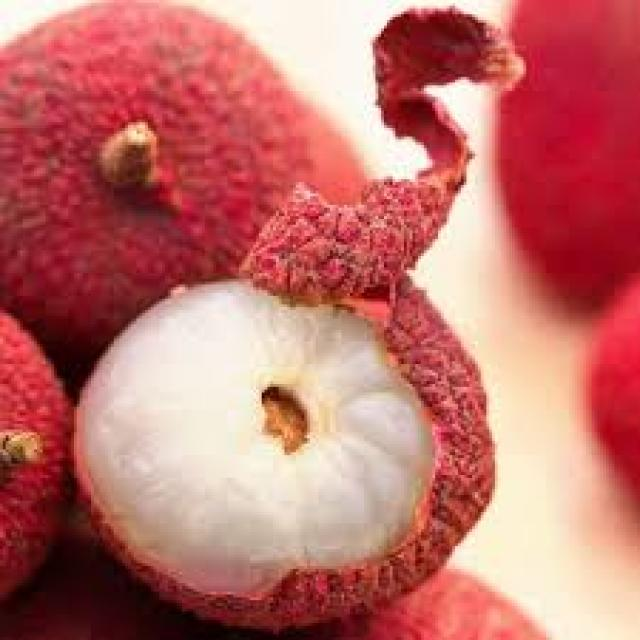Organik: (71, 264, 496, 624), (0, 0, 368, 304), (262, 6, 520, 308), (498, 0, 637, 313), (0, 285, 77, 597), (580, 265, 640, 509)
